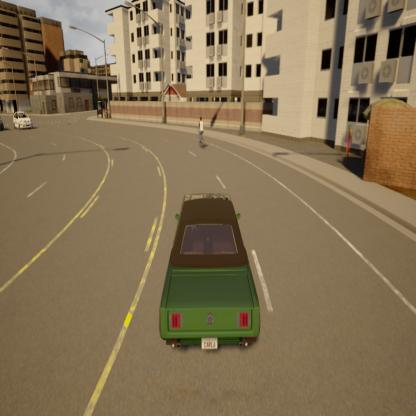Cars: (146, 183, 266, 366), (10, 107, 39, 132), (0, 116, 7, 133)
